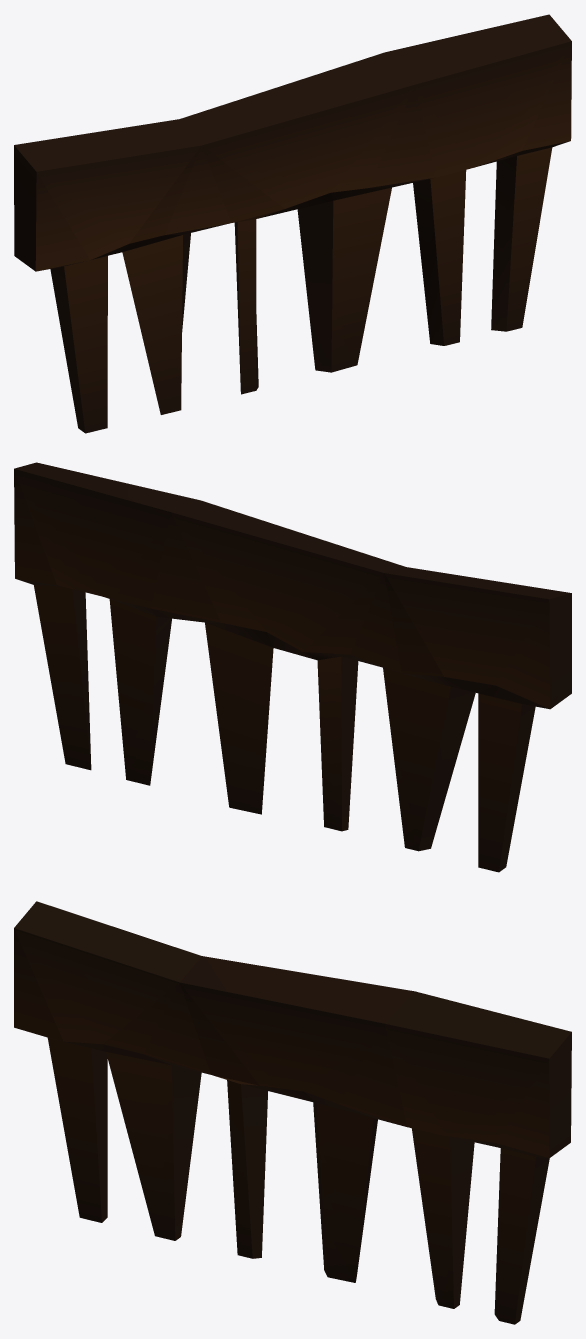
The model's file is c_fence_wood_aa.fbx.
The picture shows the model from 3 angles, top to bottom: view 1: azimuth 30°, elevation 25°; view 2: azimuth 150°, elevation 25°; view 3: azimuth 330°, elevation 25°; orthographic projection.
Parts seen in each view (by area): view 1: c_fence_wood_aa; view 2: c_fence_wood_aa; view 3: c_fence_wood_aa.
Part boxes in pixels (left/top/right/bottom): c_fence_wood_aa: left=14, top=14, right=571, bottom=433; c_fence_wood_aa: left=14, top=462, right=571, bottom=872; c_fence_wood_aa: left=14, top=901, right=571, bottom=1324.
Size of the model in its own units: 2.23 by 1.16 by 0.2167.
